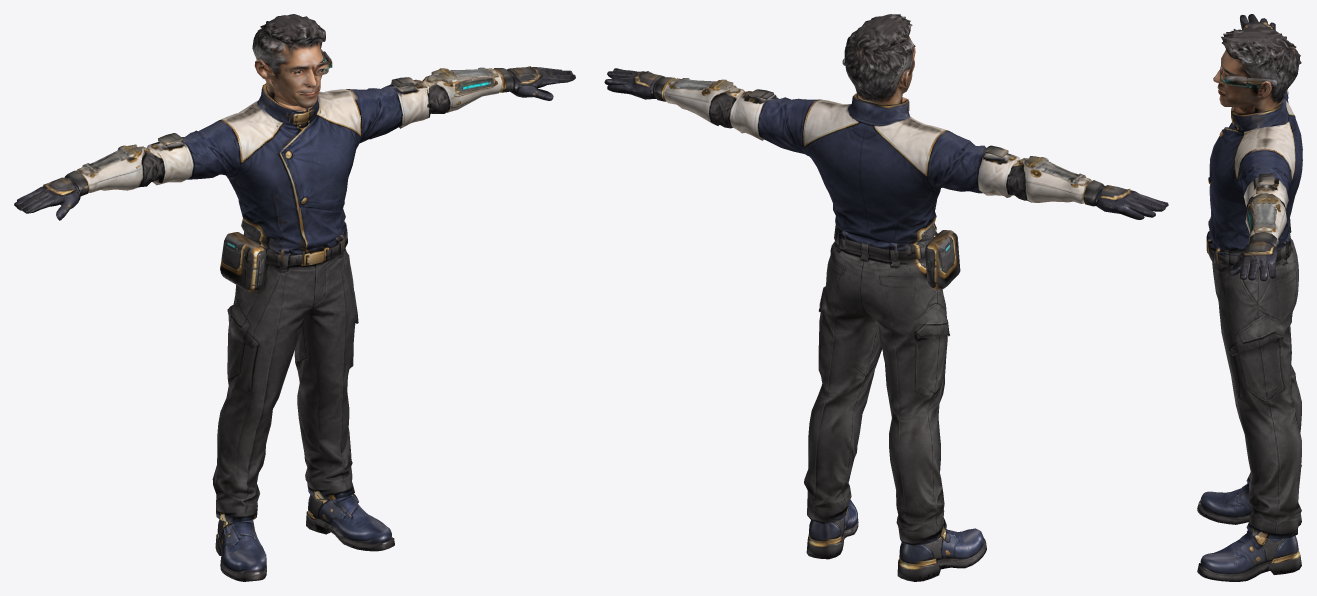
Rendered from Garran-Textured-T-Pose.glb.
3 renders of one model, left to right at view 1: azimuth 30°, elevation 25°; view 2: azimuth 150°, elevation 25°; view 3: azimuth 270°, elevation 25°, orthographic. The views are drawn at different scales.
Parts seen in each view (by area): view 1: Neris - Weapon Shop Owner; view 2: Neris - Weapon Shop Owner; view 3: Neris - Weapon Shop Owner.
Part boxes in pixels (x1,y1,x2,y2): Neris - Weapon Shop Owner: [14, 14, 575, 581]; Neris - Weapon Shop Owner: [604, 14, 1168, 581]; Neris - Weapon Shop Owner: [1197, 14, 1302, 581].
Size of the model in its own units: 0.9995 by 0.9106 by 0.1694.
Materials: 1 (1 with a texture image).
